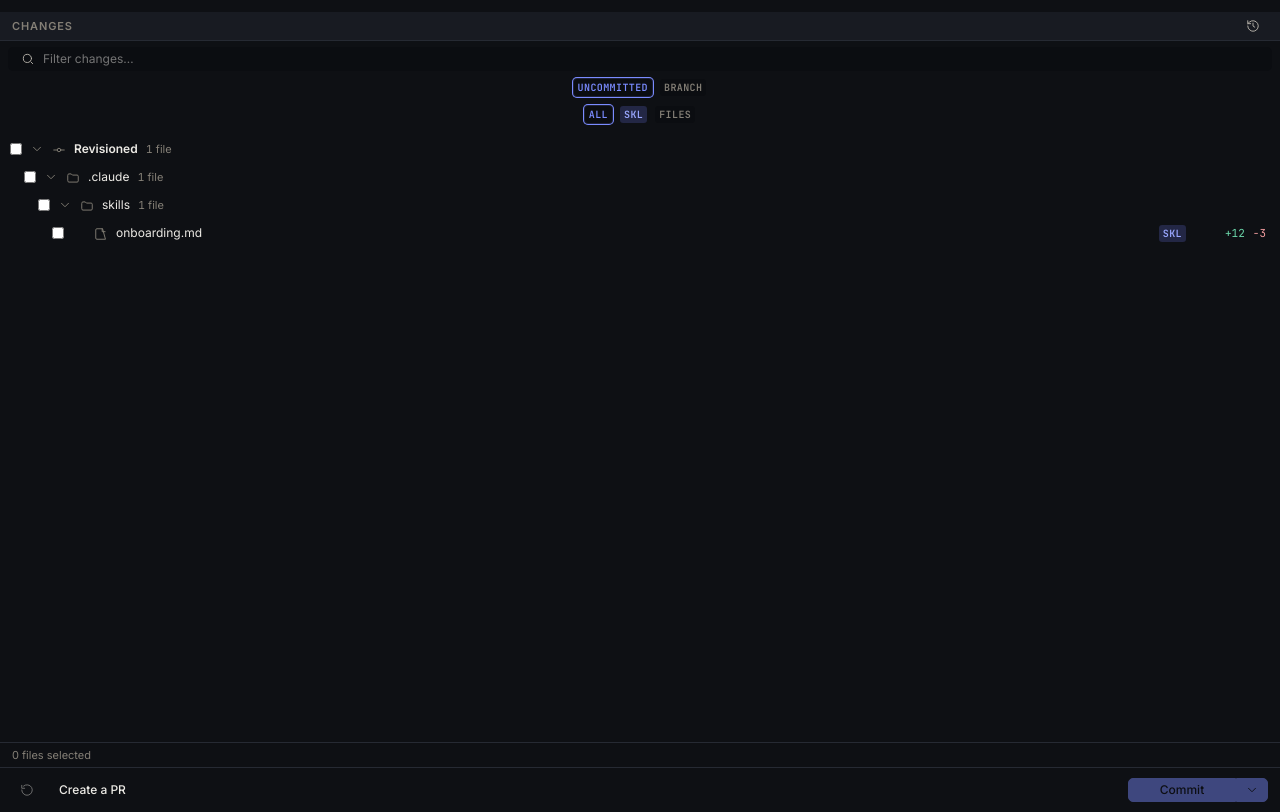
Test case: the checkbox column › CHG-FR-27, CHG-FR-29 retains a check while the filters hide the row, and restores it
Click the radio button labelled "Files" at (675, 114), box [653, 104, 697, 125]
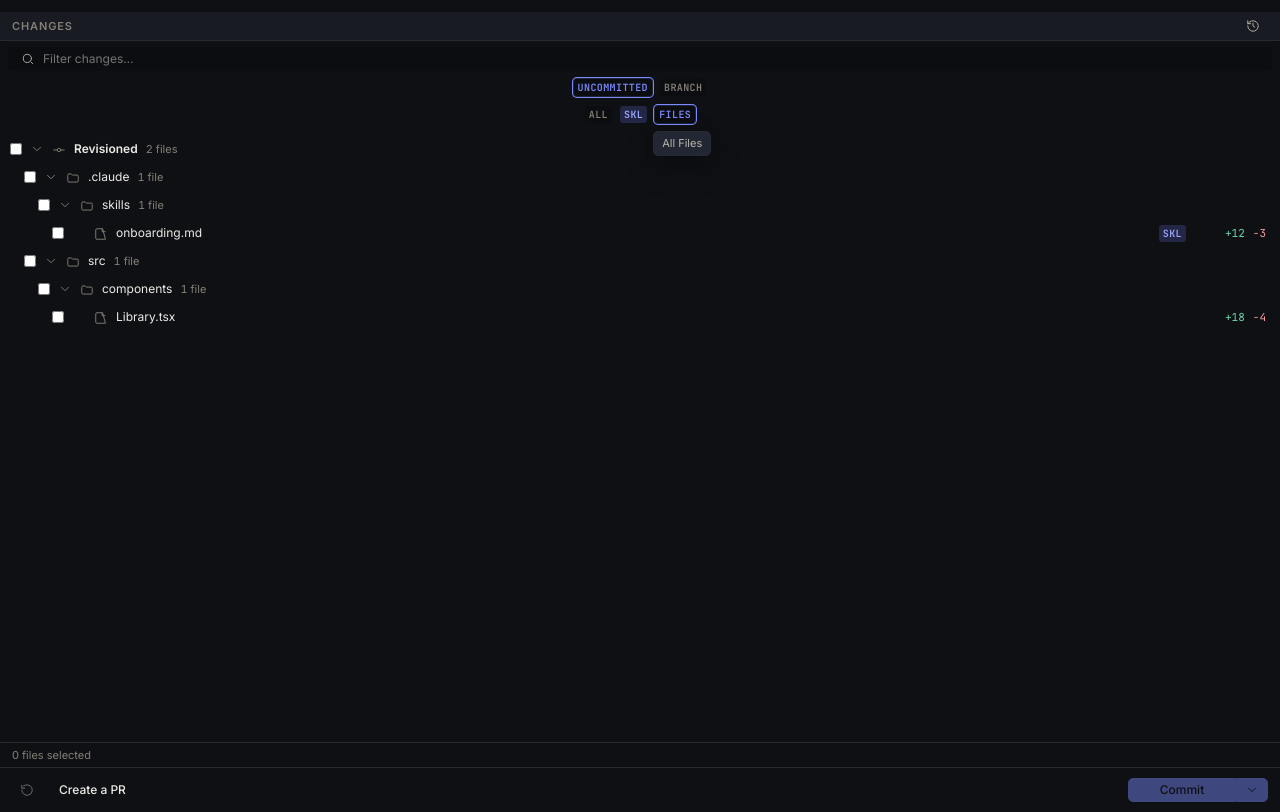
expect the text "Library.tsx" is shown: met, box [116, 309, 175, 324]
Click the checkbox named "Include src/components/Library.tsx" at (58, 317), box [52, 311, 64, 323]
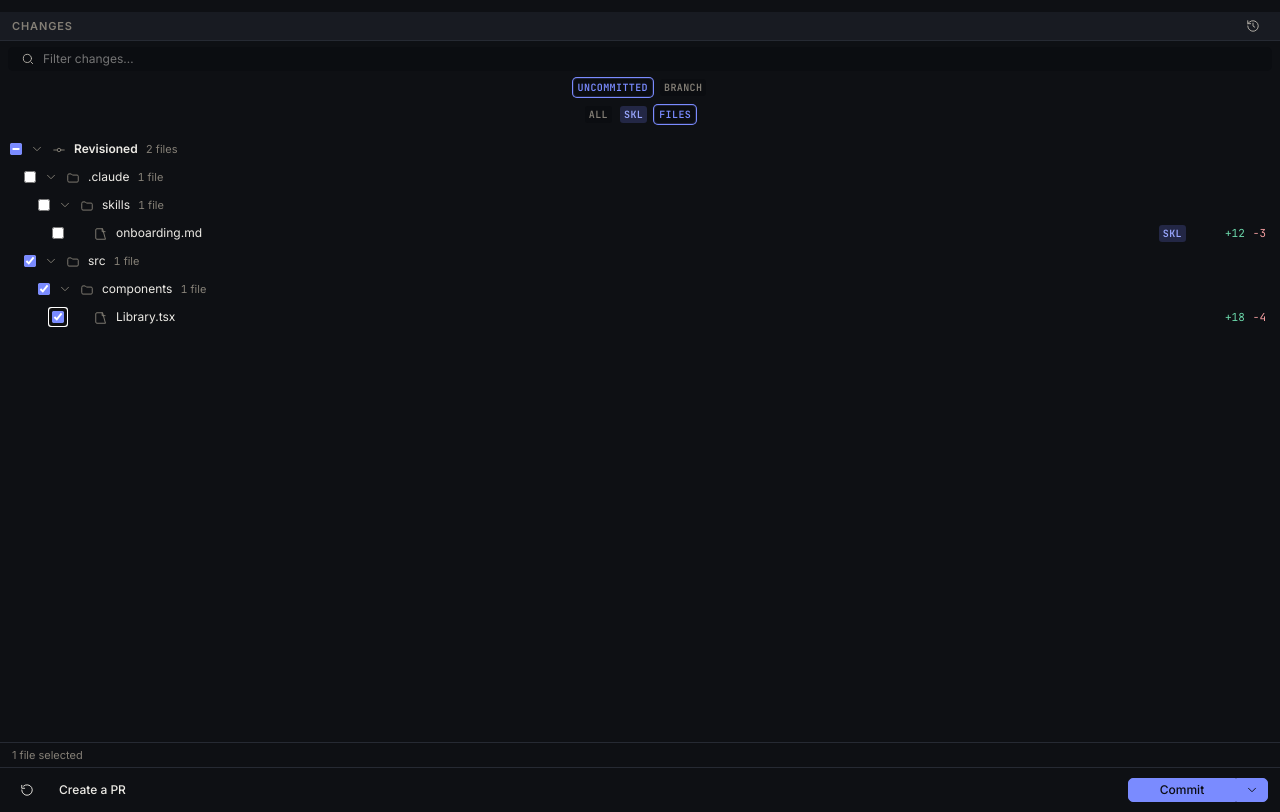
Click the radio button labelled "All" at (598, 114), box [583, 104, 614, 125]
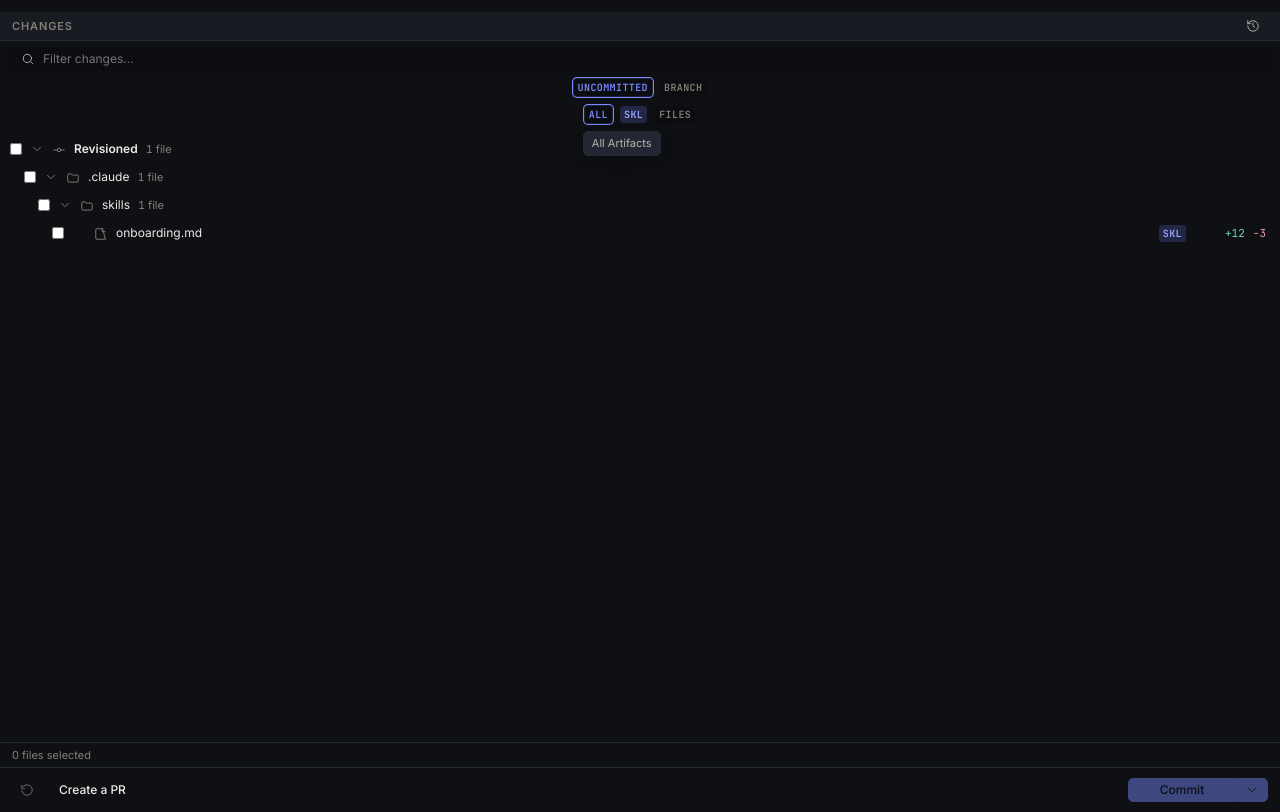
expect the text "0 files selected" is shown: met, box [0, 742, 1279, 767]
Click the radio button labelled "Files" at (675, 114), box [653, 104, 697, 125]
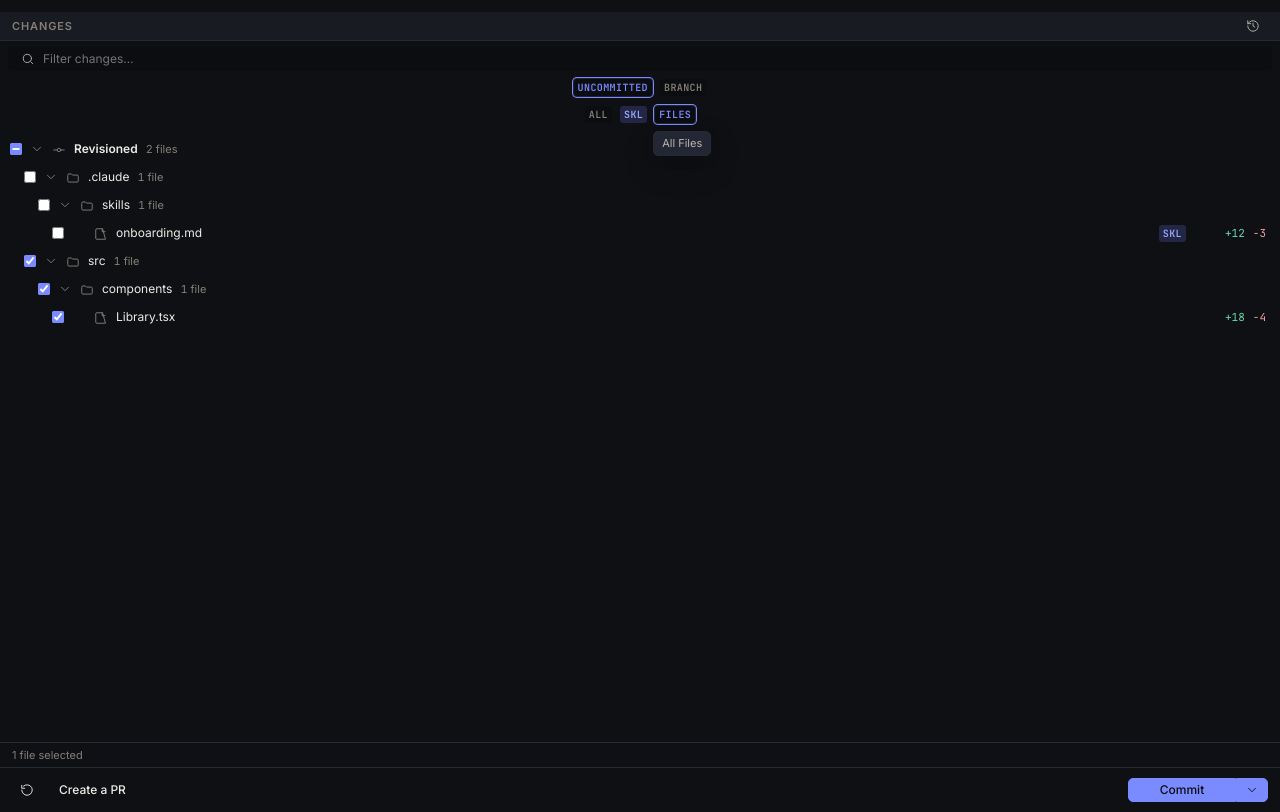
expect the checkbox named "Include src/components/Library.tsx" is checked: met, box [52, 311, 64, 323]
expect the text "1 file selected" is shown: met, box [0, 742, 1279, 767]
